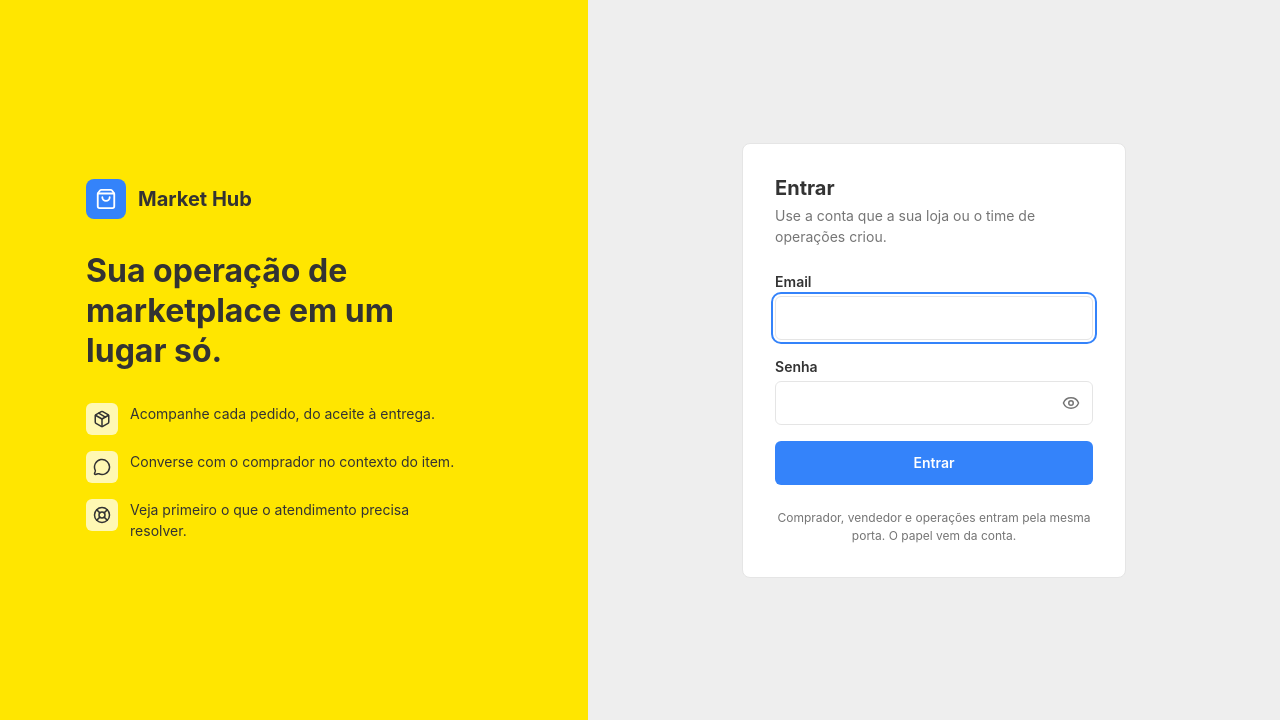
Test: LoginPage › lets the reader reveal and hide the typed password
Type "secret" into the password field labelled "Senha" at point(934, 402), box [775, 380, 1093, 424]
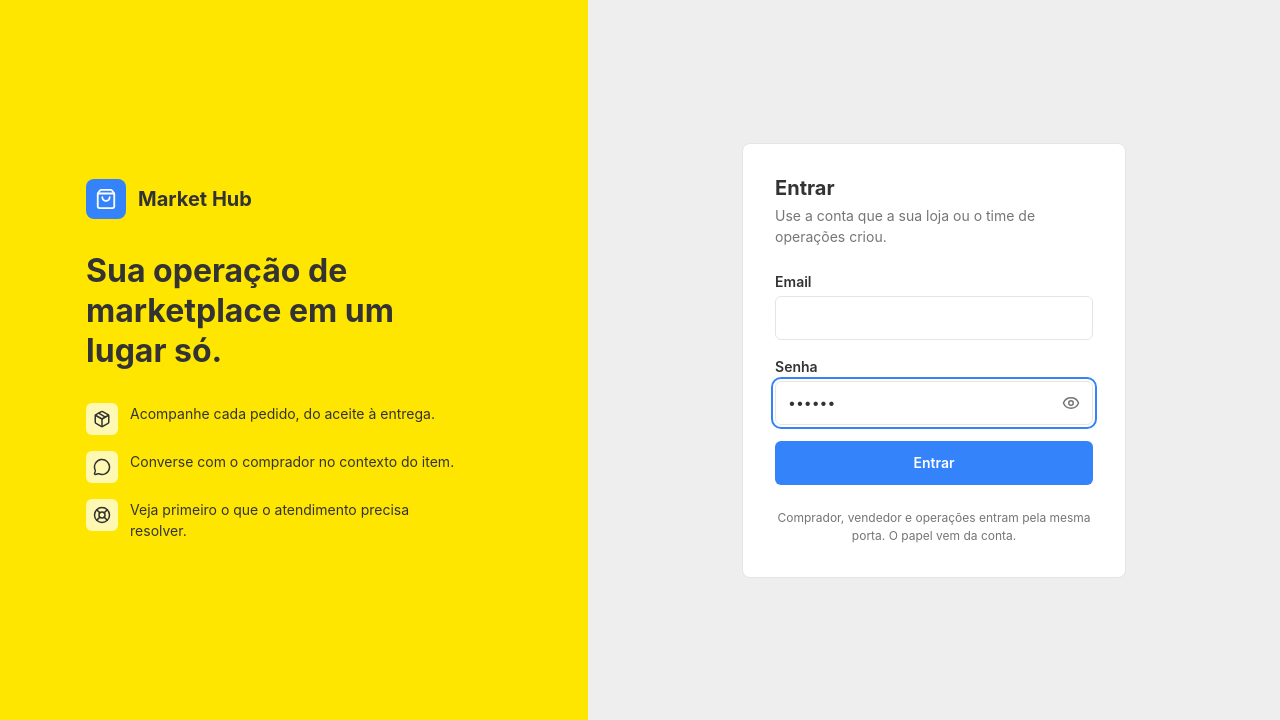
Click the button named "Mostrar senha" at point(1071, 402), box [1053, 384, 1089, 420]
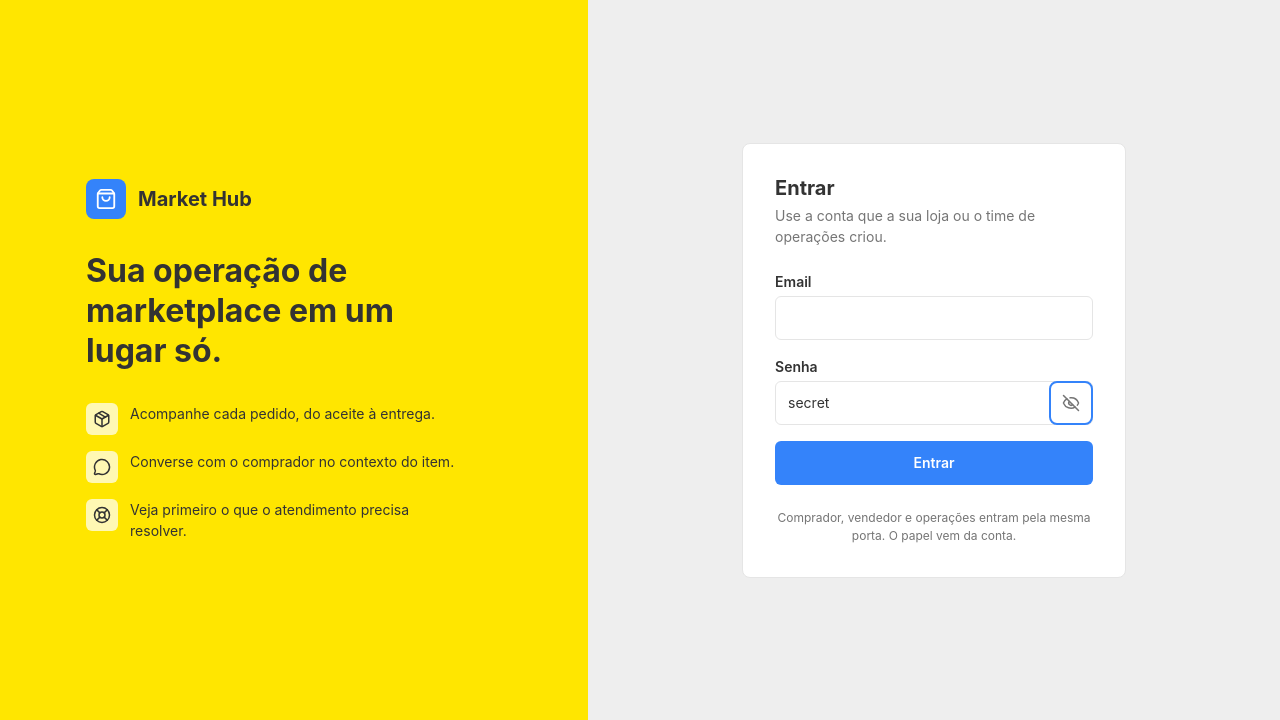
Now the field labelled "Senha" shows its text, box [775, 380, 1093, 424]
Click the button named "Ocultar senha" at point(1071, 402), box [1053, 384, 1089, 420]
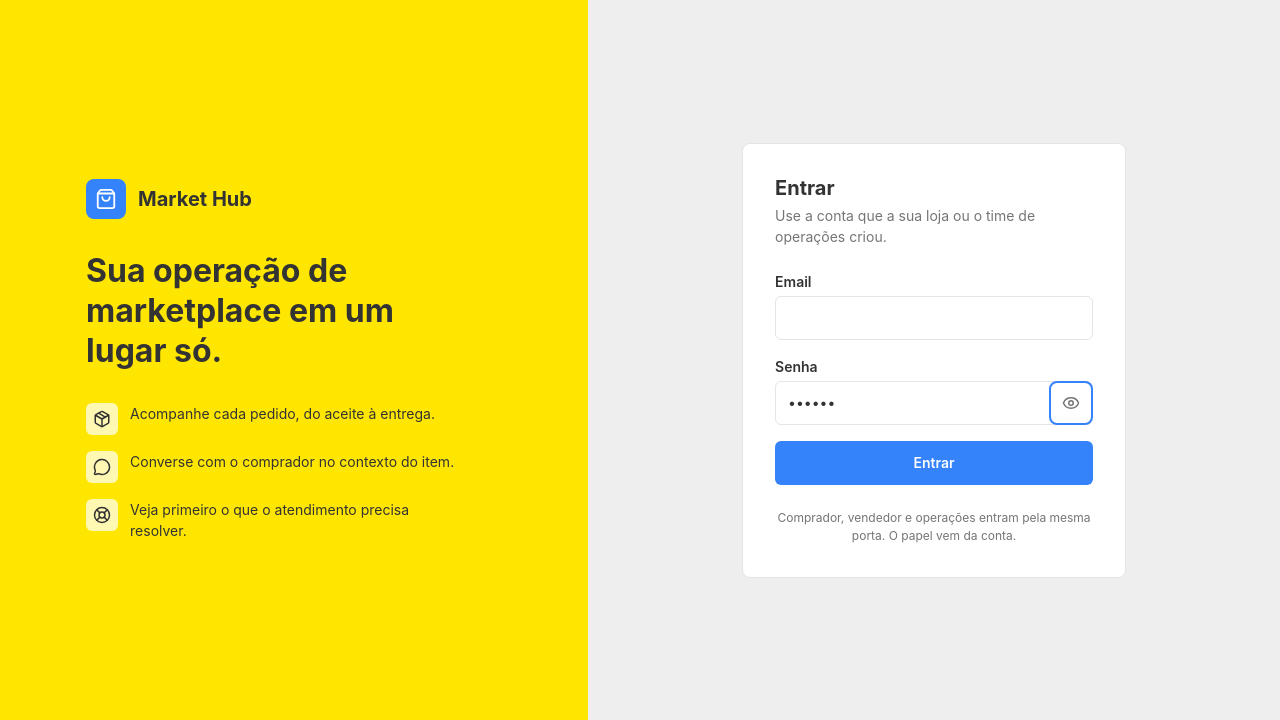
Now the password field labelled "Senha" hides its text, box [775, 380, 1093, 424]
